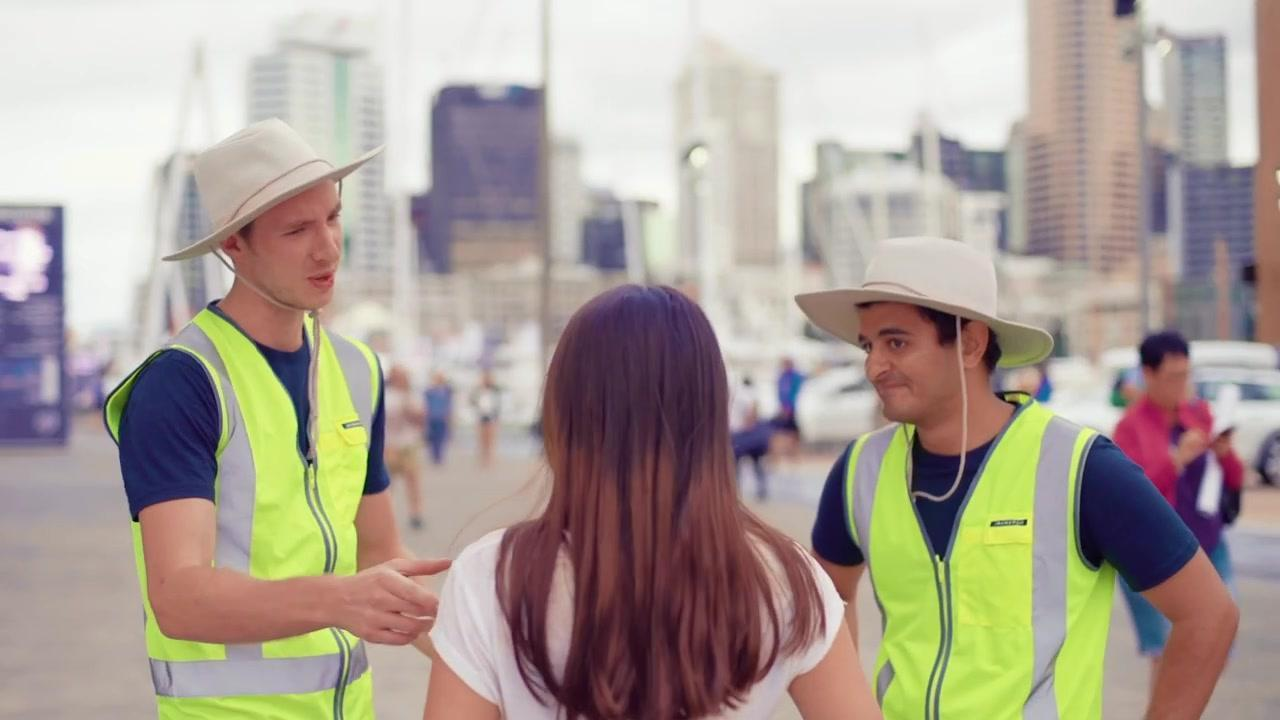vest: (97, 298, 388, 717), (841, 388, 1112, 715)
